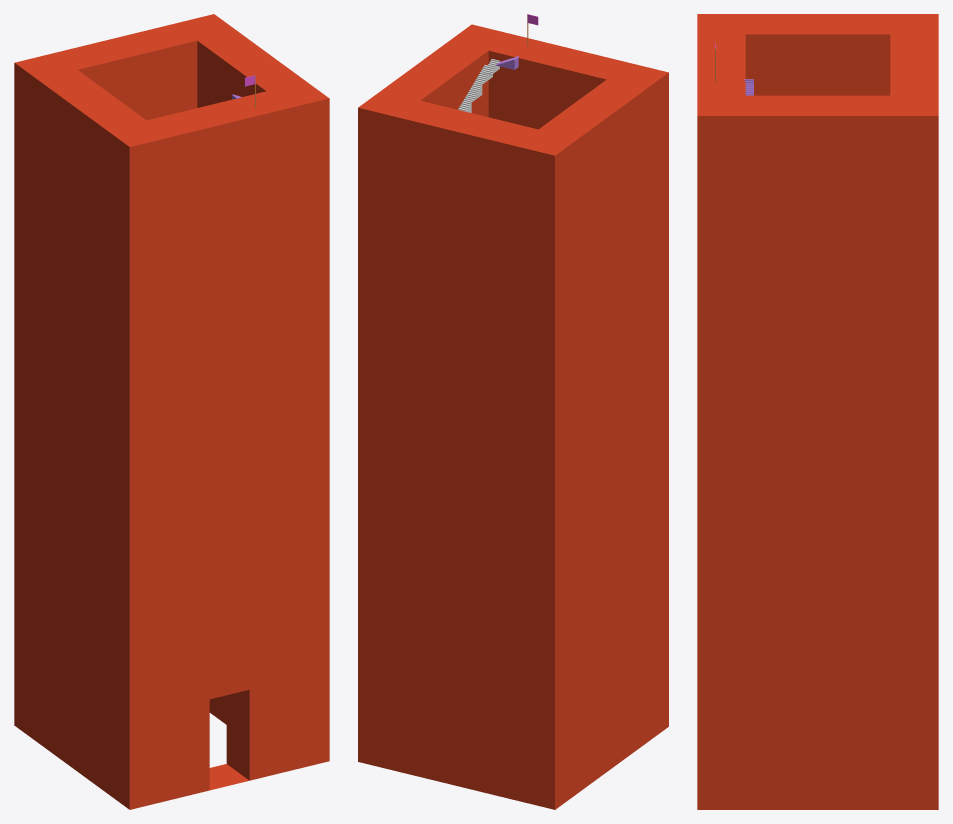
The model's file is tower.fbx.
3 views of the same model, side by side, from view 1: azimuth 30°, elevation 25°; view 2: azimuth 150°, elevation 25°; view 3: azimuth 270°, elevation 25° (orthographic). The views are drawn at different scales.
Visible parts, largest first — view 1: Cube.014; view 2: Cube.014; view 3: Cube.014.
Part boxes in pixels (left/top/right/bottom): Cube.014: left=14, top=14, right=329, bottom=809; Cube.014: left=358, top=24, right=668, bottom=809; Cube.014: left=697, top=14, right=938, bottom=809.
Bounding box in the file's own units: 4916 × 4916 × 16372.
